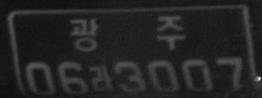0: (181, 57, 214, 94), (147, 59, 180, 94), (24, 61, 55, 94)
3: (112, 60, 147, 94)
6: (57, 60, 87, 97)
7: (215, 56, 245, 94)
광주_D: (69, 14, 186, 51)
라: (88, 63, 112, 94)
